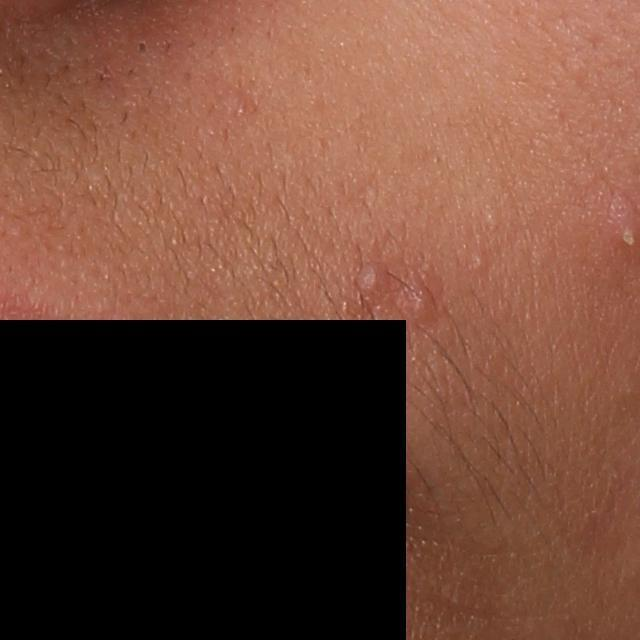comedo: (471, 250, 491, 271)
papule: (391, 278, 435, 326)
